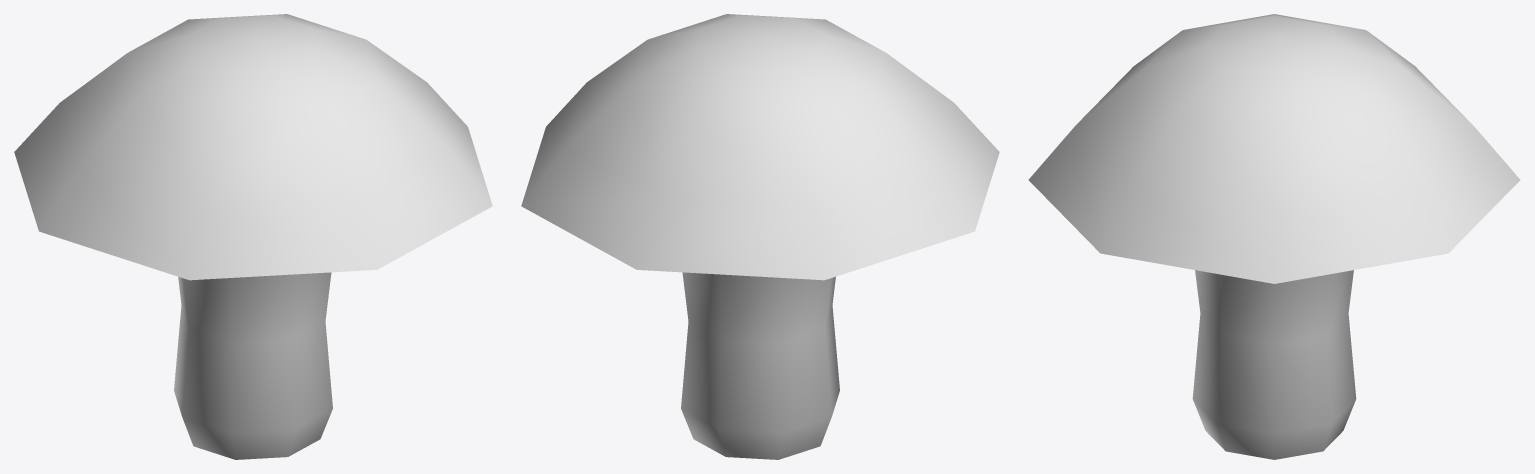
The model's file is LowPolyMushroom.fbx.
3 views of the same model, side by side, from view 1: azimuth 30°, elevation 25°; view 2: azimuth 150°, elevation 25°; view 3: azimuth 270°, elevation 25° (orthographic).
Visible parts, largest first — view 1: Cube; view 2: Cube; view 3: Cube.
Boxes of the visible parts, x1,y1,x2,y2 form: Cube: (14,14,492,459); Cube: (521,14,999,459); Cube: (1028,14,1520,459).
Size of the model in its own units: 273 by 273 by 240.
